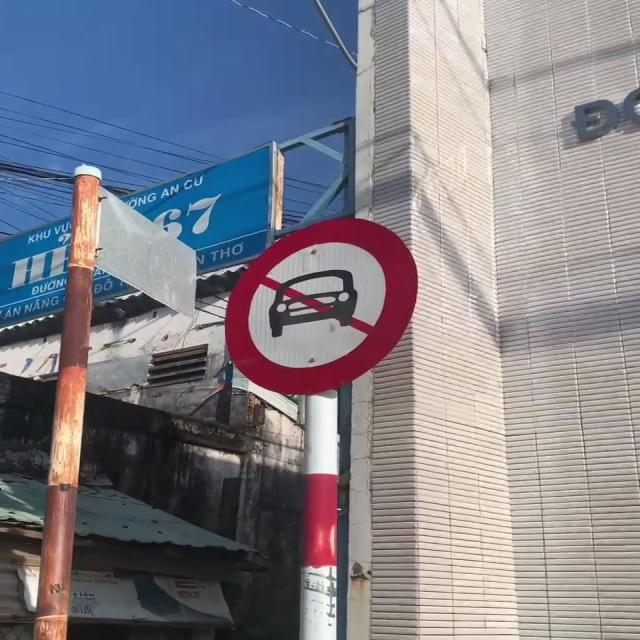Cam_O_To: (222, 216, 418, 396)
